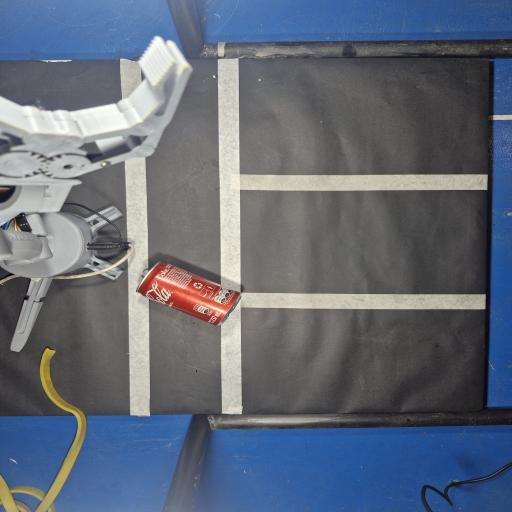lata: (136, 262, 240, 325)
